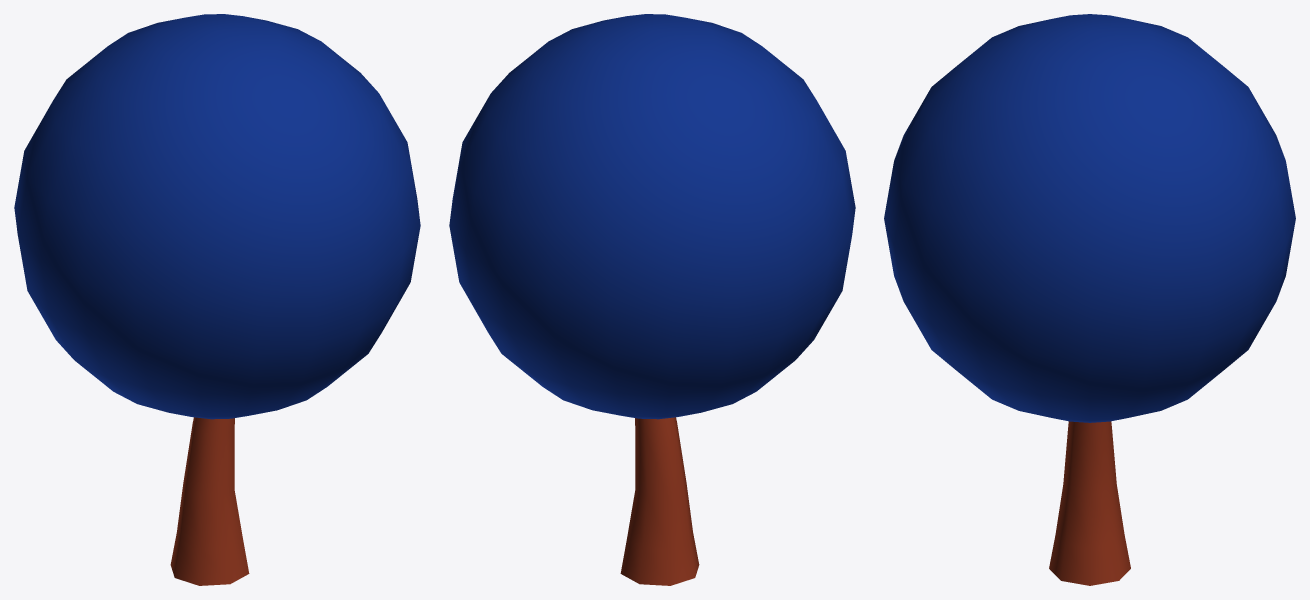
Rendered from Tree_01.FBX.
3 views of the same model, side by side, from view 1: azimuth 30°, elevation 25°; view 2: azimuth 150°, elevation 25°; view 3: azimuth 270°, elevation 25° (orthographic).
Visible parts, largest first — view 1: Line001; view 2: Line001; view 3: Line001.
Part boxes in pixels (x1,y1,x2,y2): Line001: (14, 14, 420, 585); Line001: (449, 14, 855, 585); Line001: (884, 14, 1295, 585).
Size of the model in its own units: 714 by 1033 by 714.
